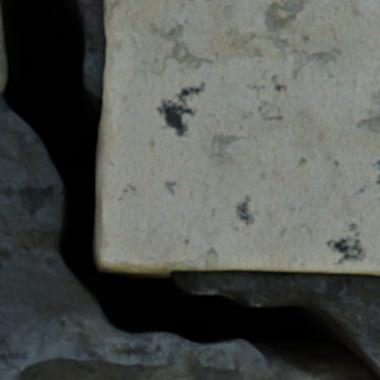brick: (96, 0, 379, 275), (0, 10, 5, 90)
broken_brick: (21, 358, 355, 379)
crack: (0, 0, 378, 379)
